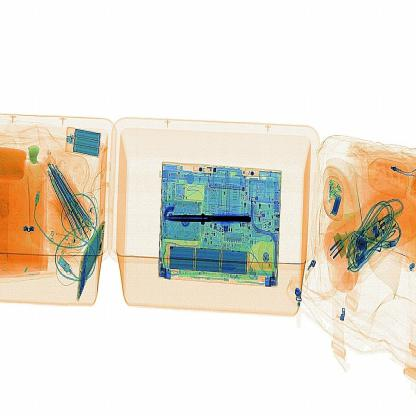gun: (160, 196, 268, 230)
